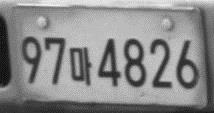2: (149, 37, 173, 89)
4: (96, 37, 122, 87)
6: (175, 39, 200, 90)
7: (44, 36, 66, 86)
8: (122, 37, 146, 87)
9: (20, 35, 42, 85)
마: (68, 45, 92, 86)
